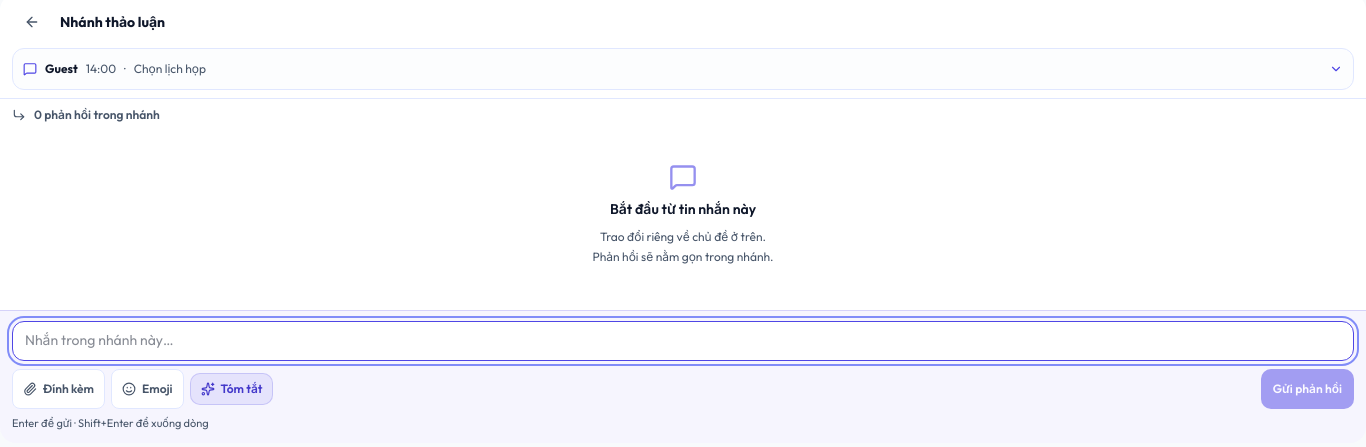
Test: closes @ suggestions before the thread and inserts a picked command (embedded: true)
Step 1. Type "@" into the text box → {"x": 683, "y": 341}, box [12,321,1354,361]
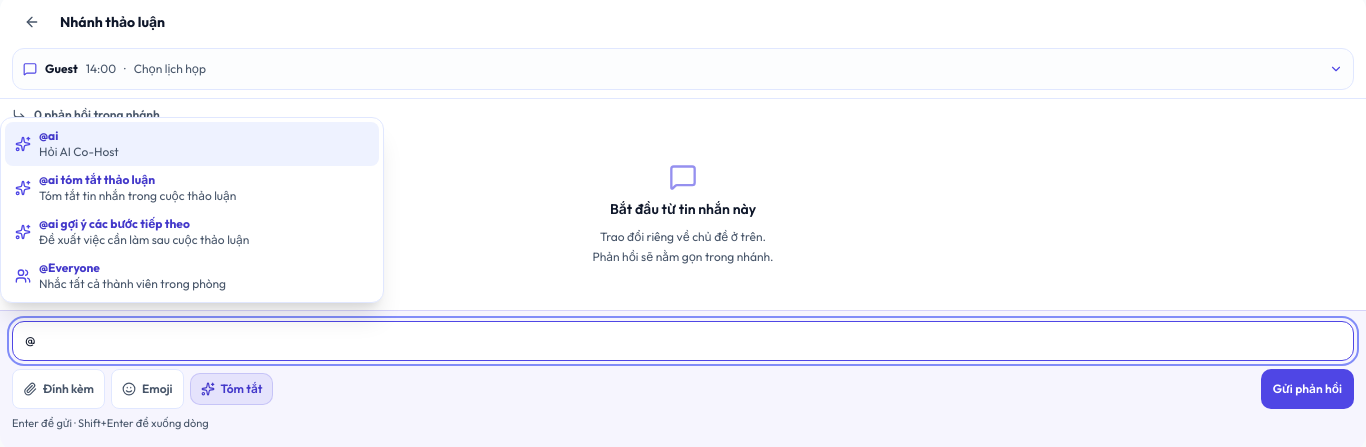
Now the list is shown, box [0,117,384,303]
Step 2. Press Escape in the text box, box [12,321,1354,361]
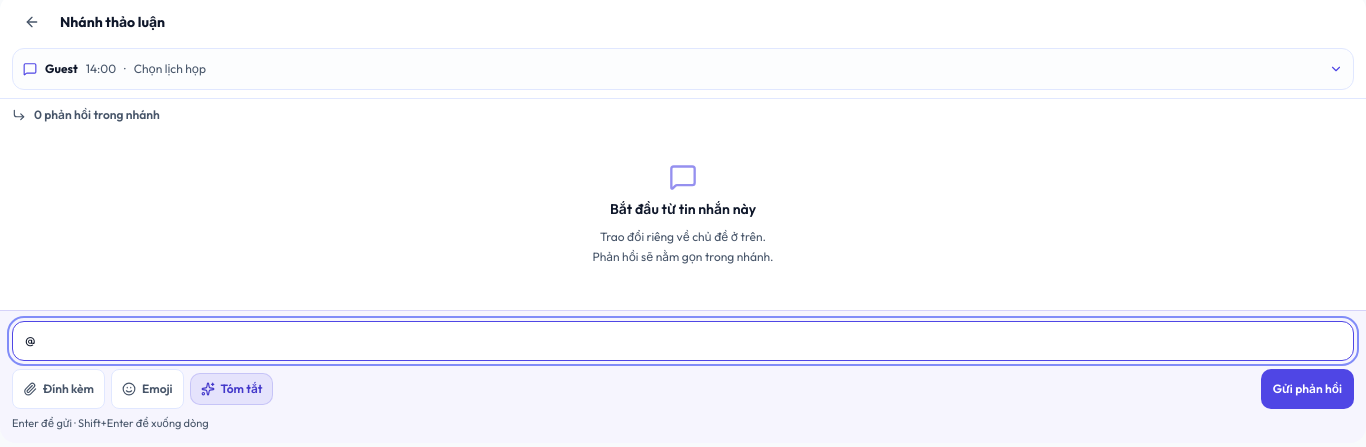
Now the list is gone
Step 3. Replace the text in the text box with "@ai" → {"x": 683, "y": 341}, box [12,321,1354,361]
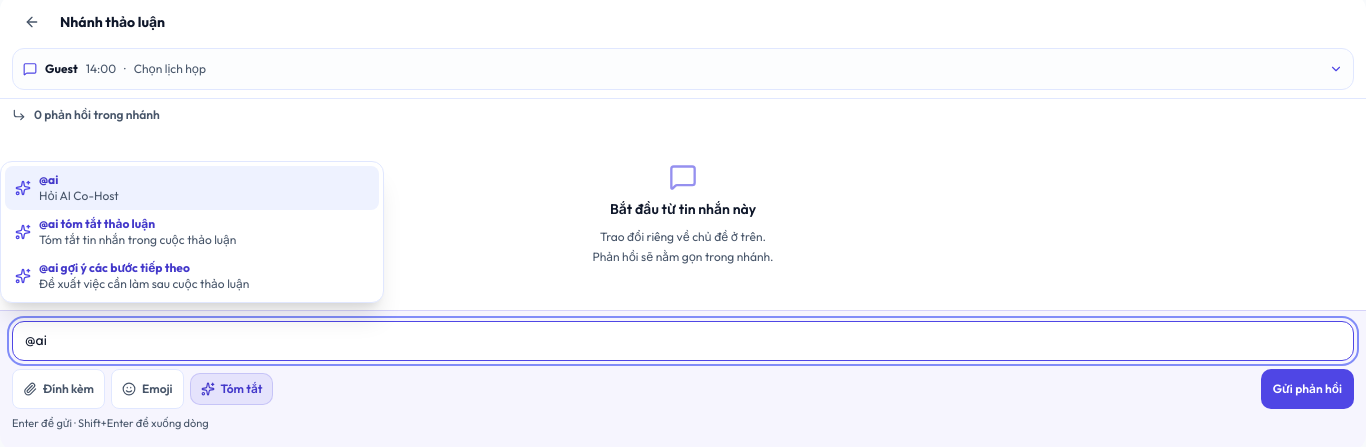
Step 4. Click the option "gợi ý các bước tiếp theo" → {"x": 132, "y": 276}, box [15,260,249,291]
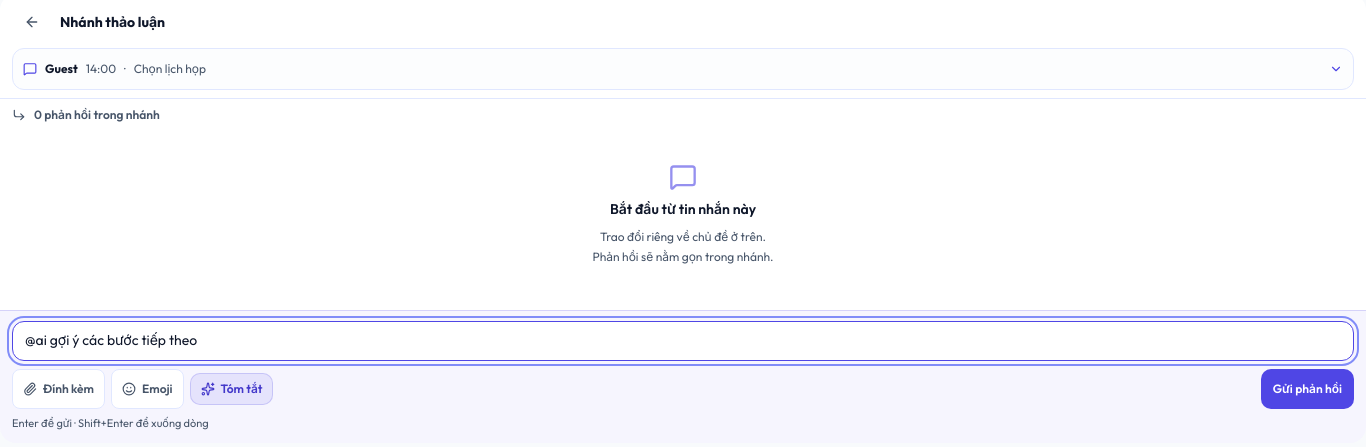
Now the text box holds "@ai gợi ý các bước tiếp theo ", box [12,321,1354,361]
